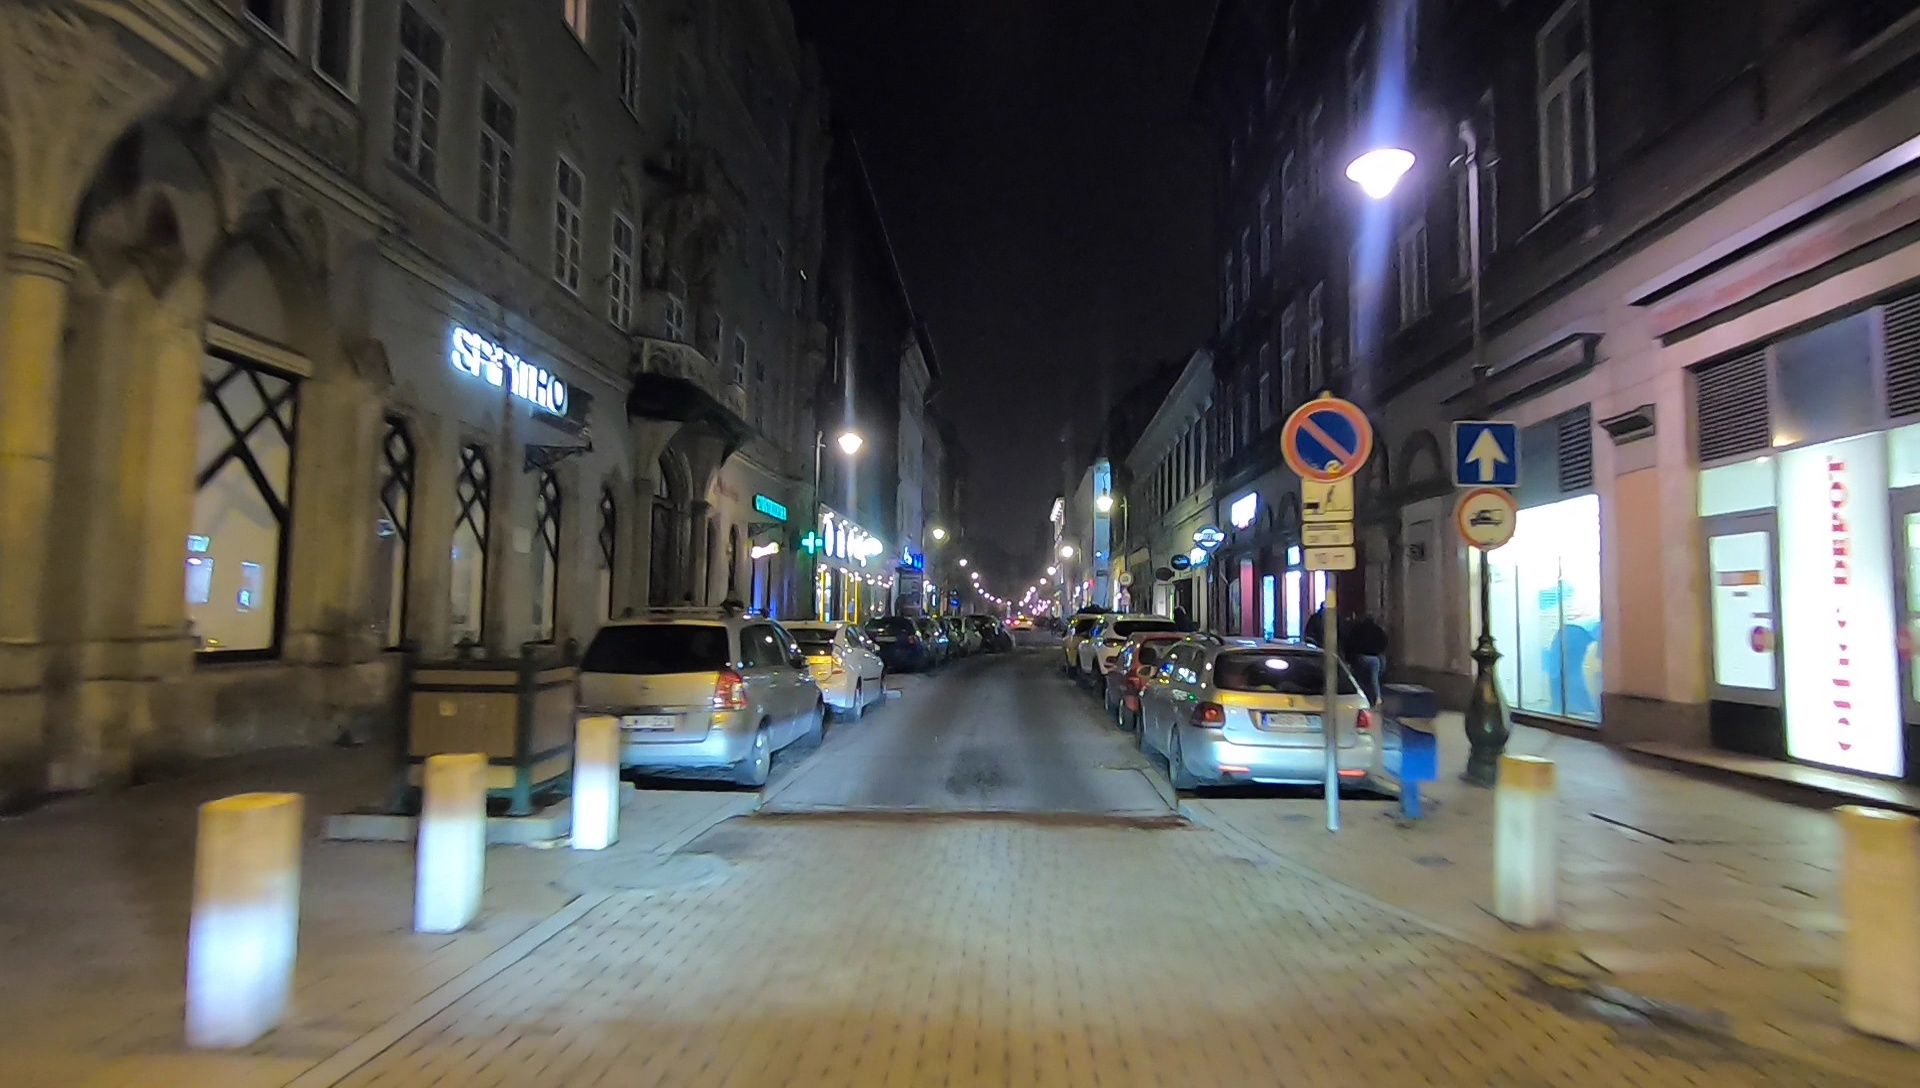person: (1306, 602, 1341, 717), (1347, 608, 1382, 711)
